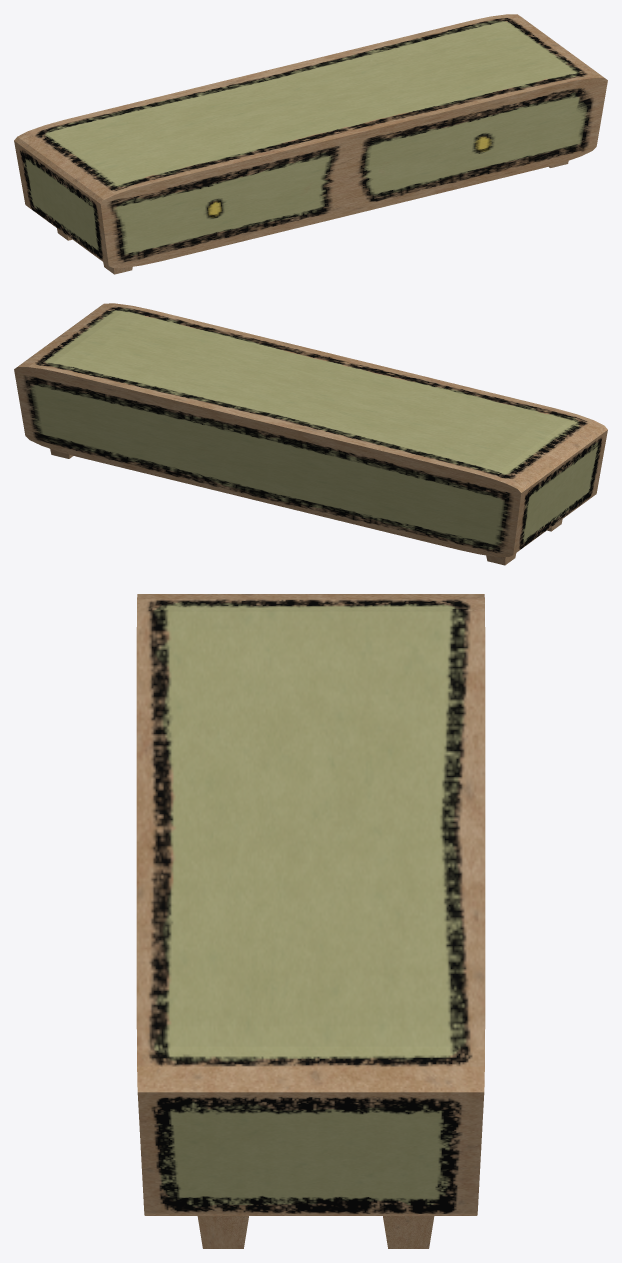
The model's file is 20s_ArmChair.fbx.
3 renders of one model, top to bottom at view 1: azimuth 30°, elevation 25°; view 2: azimuth 150°, elevation 25°; view 3: azimuth 270°, elevation 25°, orthographic. The views are drawn at different scales.
Parts seen in each view (by area): view 1: Cube; view 2: Cube; view 3: Cube.
Part boxes in pixels (left/top/right/bottom): Cube: left=14, top=14, right=607, bottom=274; Cube: left=14, top=303, right=607, bottom=565; Cube: left=136, top=594, right=485, bottom=1248.
Size of the model in its own units: 591 by 109 by 176.
Materials: 1 (1 with a texture image).
